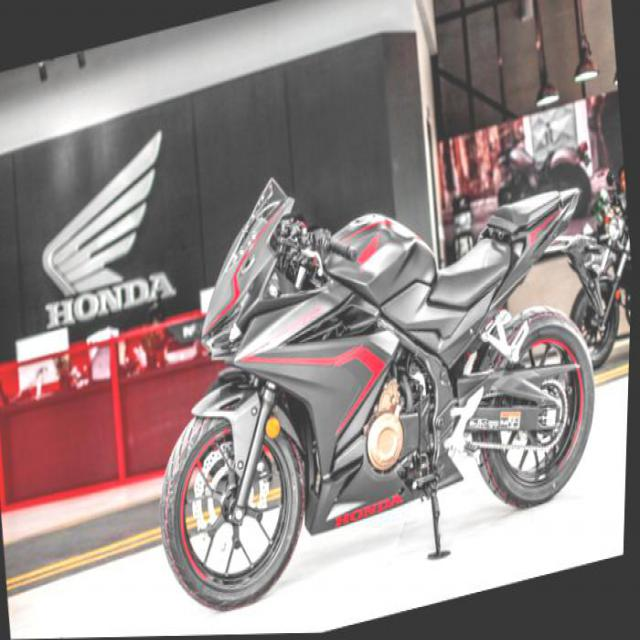CBR500R: (128, 100, 618, 627)
